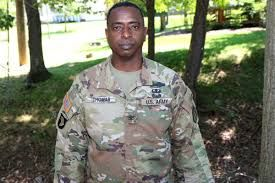uniform: (63, 55, 205, 177)
